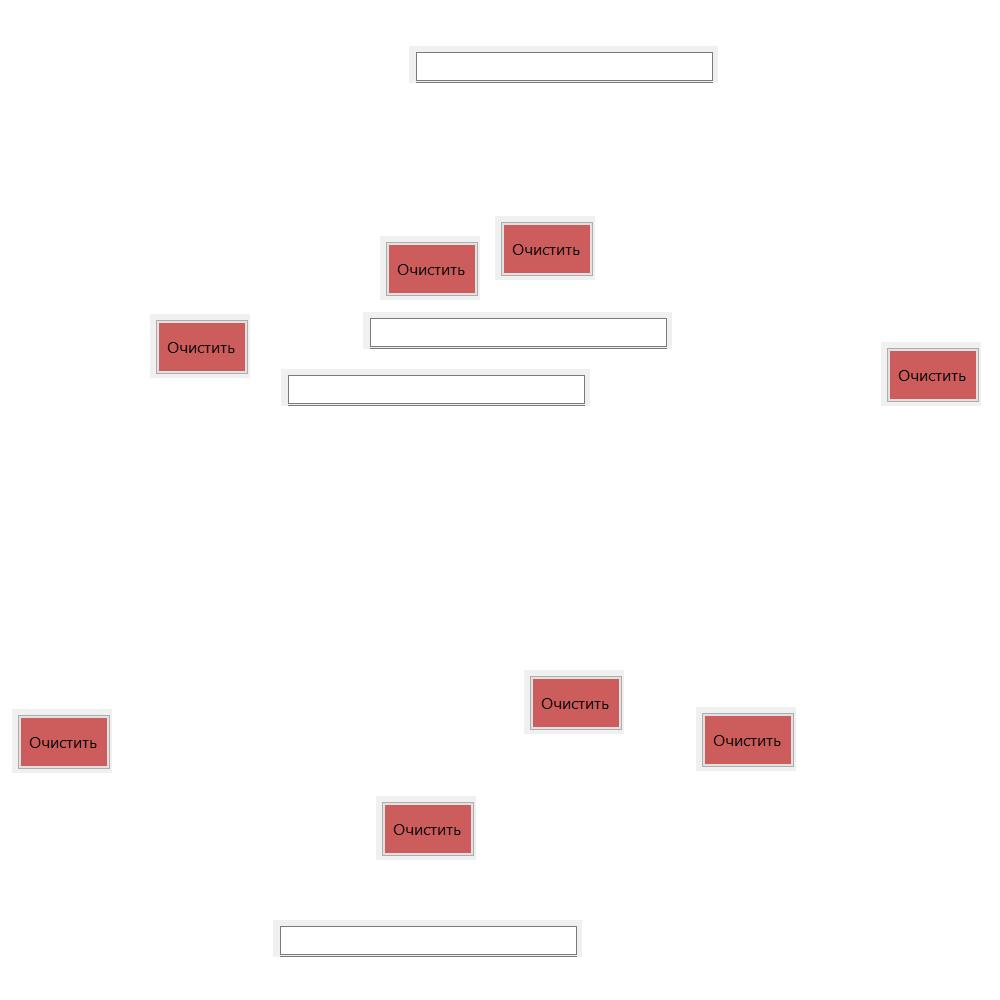Button: (495, 216, 595, 280), (12, 709, 112, 773), (524, 670, 624, 734), (376, 796, 476, 860), (881, 342, 981, 406), (150, 314, 250, 378), (696, 707, 796, 771), (380, 236, 480, 300)
EditText-: (409, 46, 718, 83), (281, 369, 590, 406), (273, 920, 582, 957), (363, 312, 672, 349)
